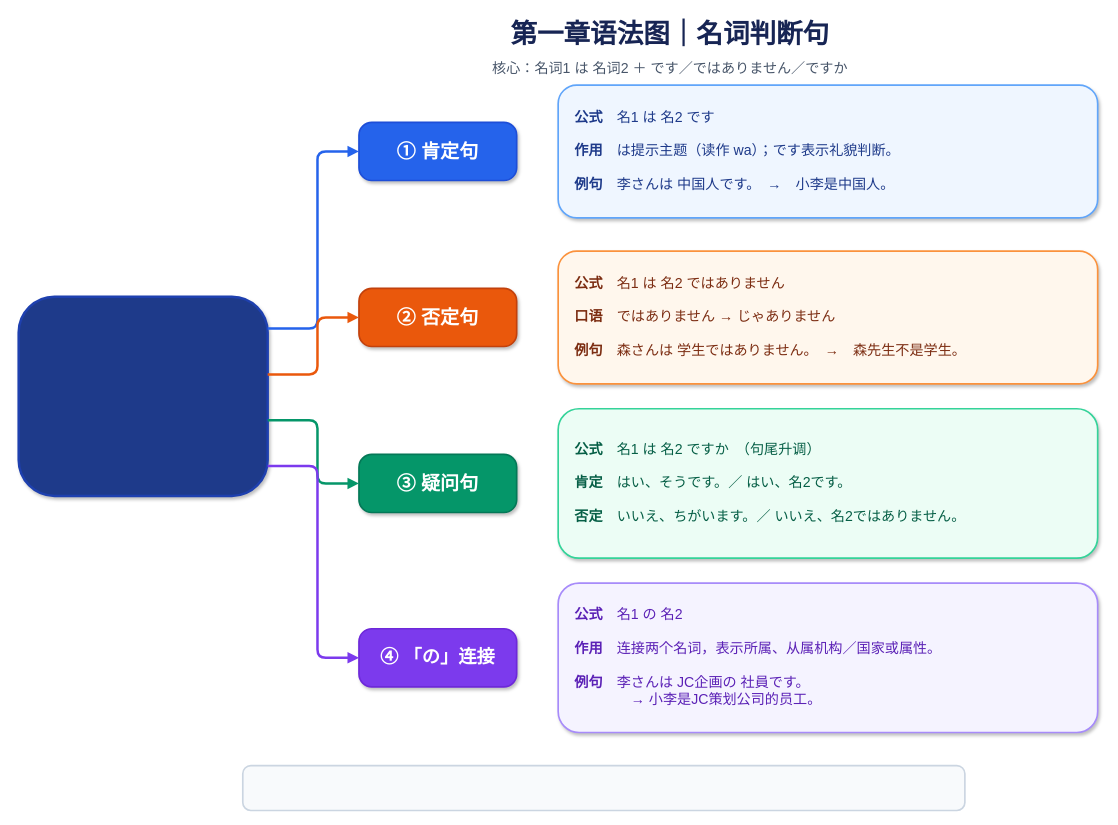
This 1118x825 diagram has some shape labels left out. Each missing label, with the centre of its shape:
"第1课 名词判断句 名1 は 名2 … 「は」在这里读 wa" belongs at point 143,397.
"记忆路线：先定主题（は） → 再作判断（です） → 否定时替换为「ではありません」 → 提问时句尾加「か」" belongs at point 603,787.
